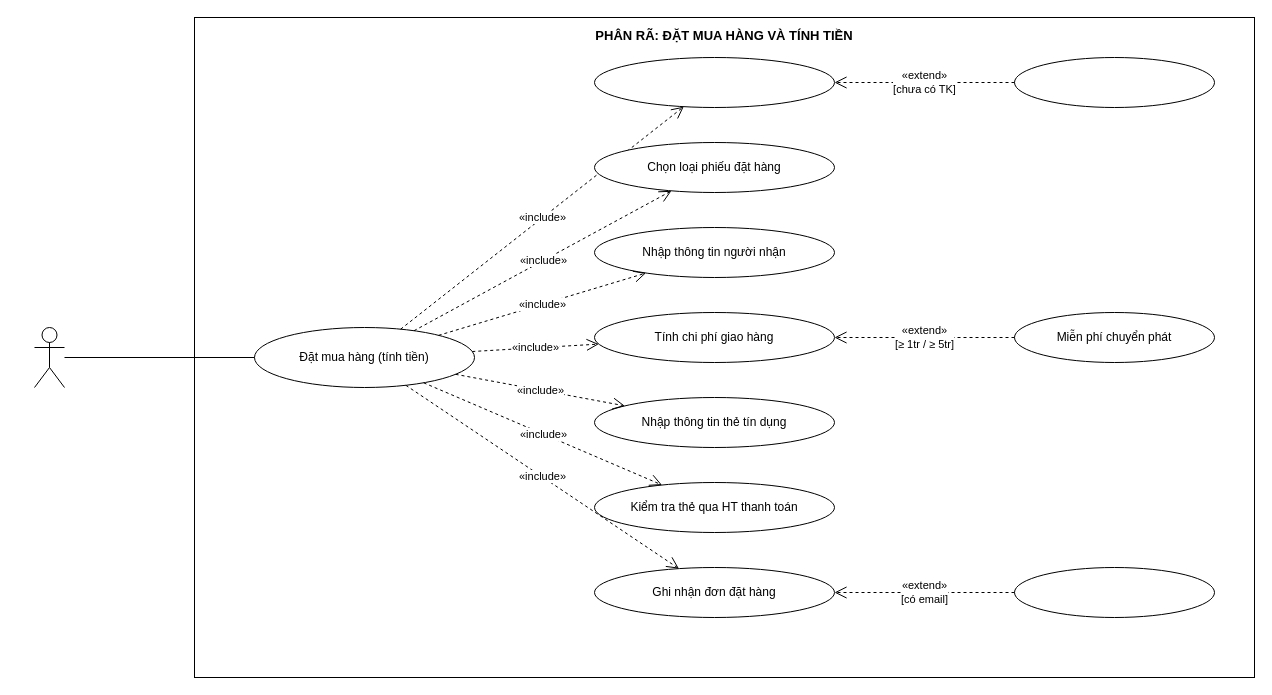
This 1272x695 diagram has some shape labels left out. Here are the shapes that lost their labels. From the top down, the box of each, then its label:
(594, 56, 834, 108): Đăng nhập
(1014, 56, 1214, 108): Đăng ký tài khoản mới
(34, 326, 64, 388): Khách hàng
(1014, 566, 1214, 618): Gửi email xác nhận
